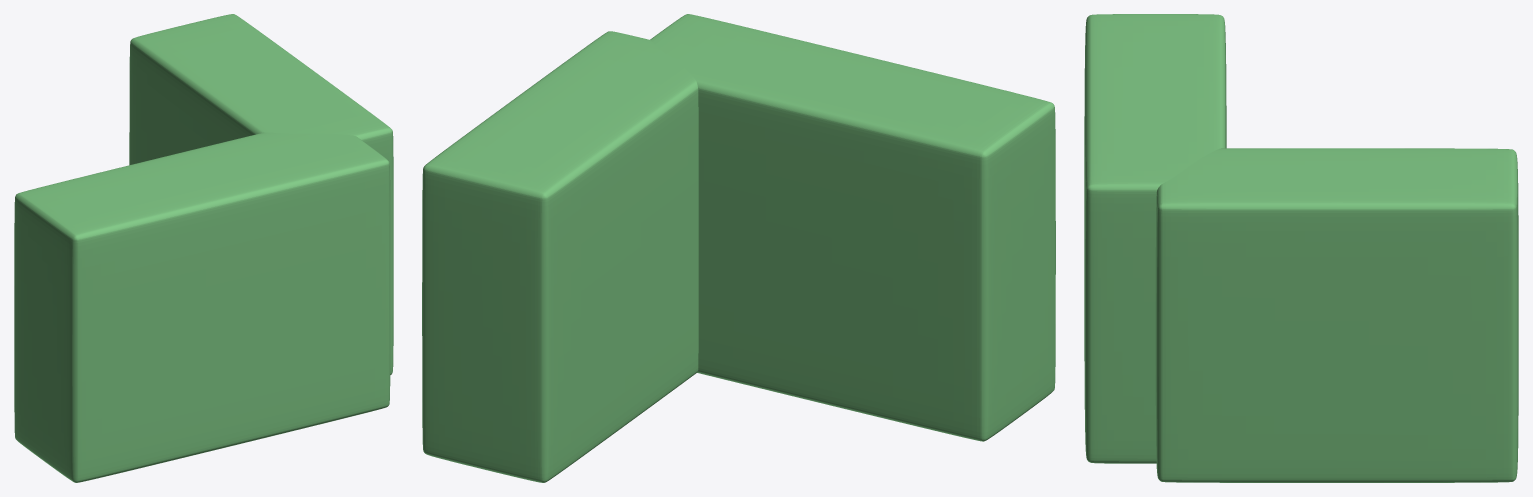
File: Toy_HedgeElbow_Hi.fbx
The picture shows the model from 3 angles, left to right: view 1: azimuth 30°, elevation 25°; view 2: azimuth 150°, elevation 25°; view 3: azimuth 270°, elevation 25°; orthographic projection. The views are drawn at different scales.
Parts seen in each view (by area): view 1: Cube, Cube.001; view 2: Cube, Cube.001; view 3: Cube.001, Cube.
Part boxes in pixels (x1,y1,x2,y2): Cube: (14,132,390,482); Cube.001: (129,14,393,374); Cube: (650,14,1055,441); Cube.001: (422,31,698,482); Cube.001: (1155,148,1518,482); Cube: (1084,14,1226,463).
Bounding box in the file's own units: 1.77 × 1.2 × 1.67.
